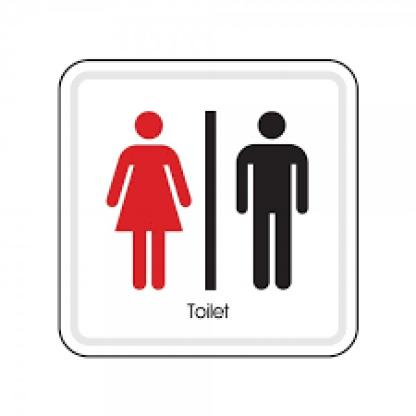toilet: (105, 106, 316, 296)
